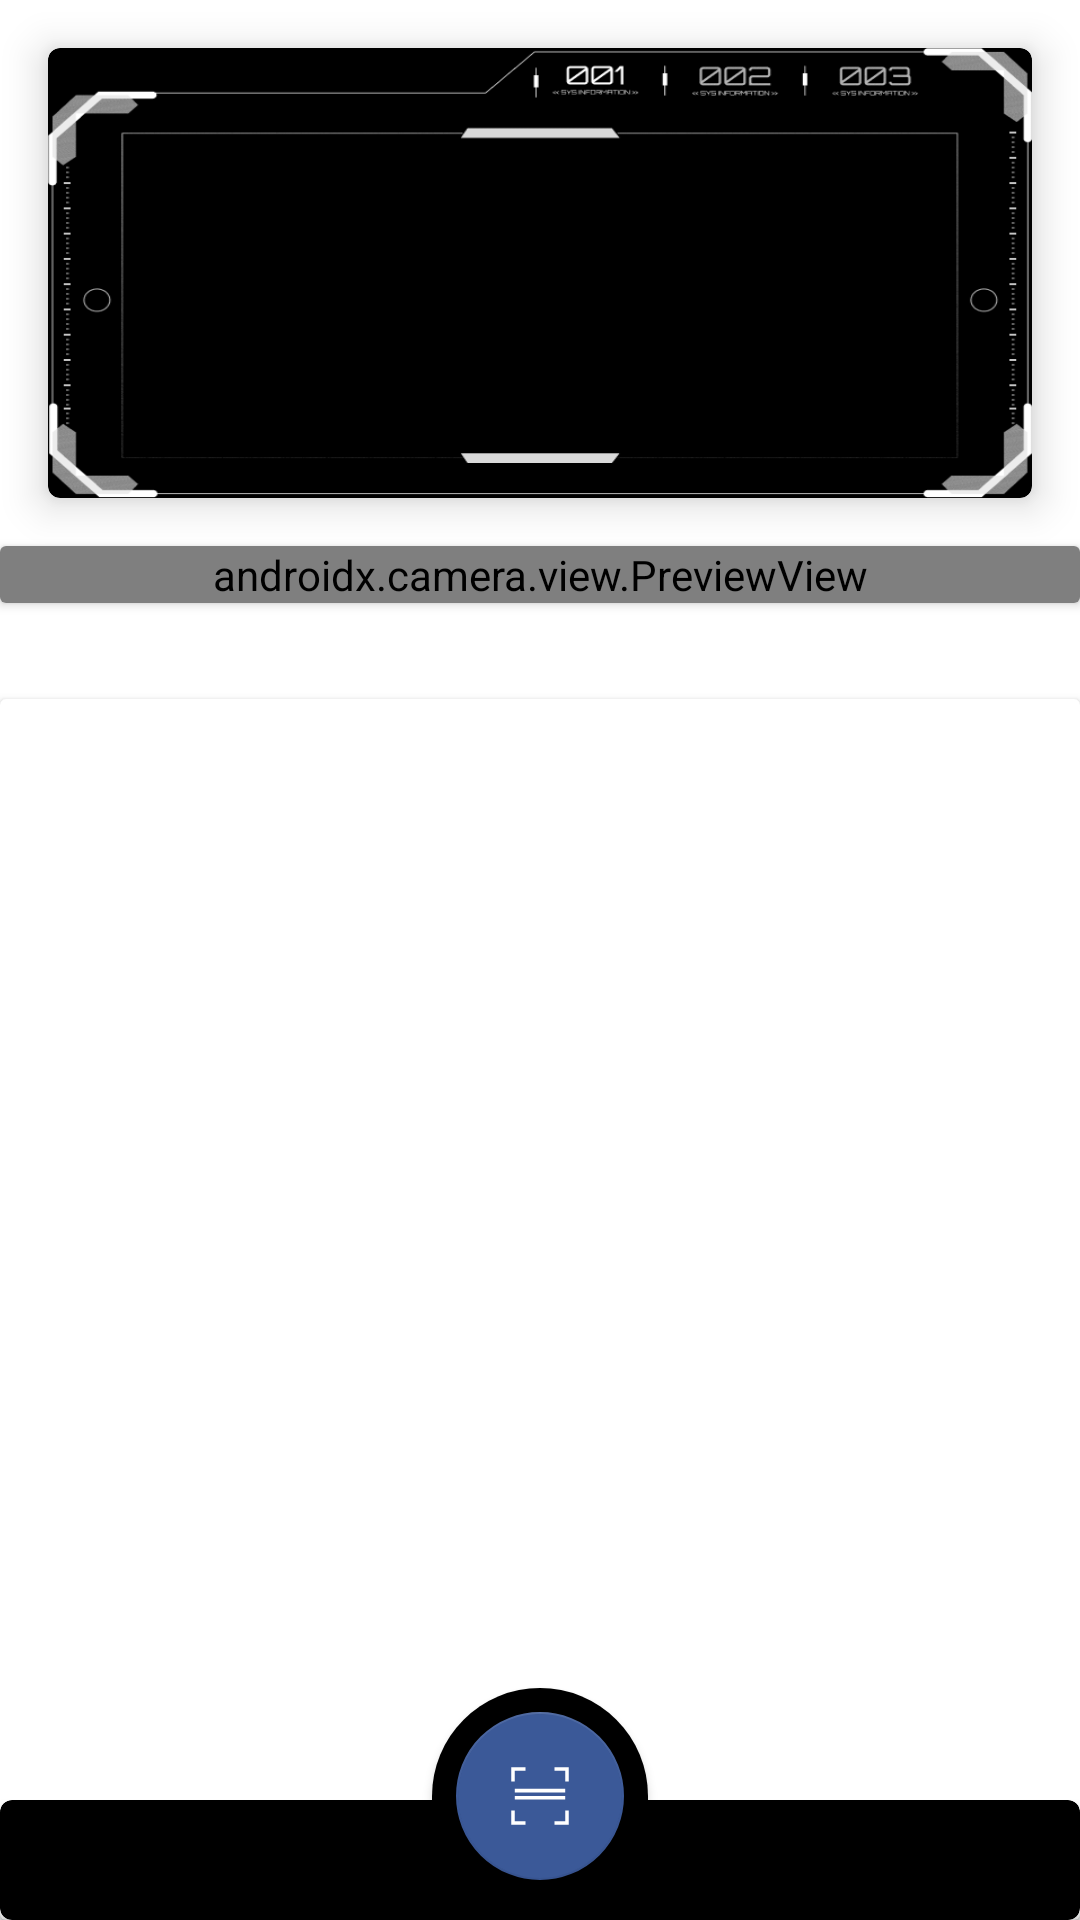

Icon click points for this 1080 × 1920 phone screenshot, format [x,y]:
Scanner: [540,1796]
